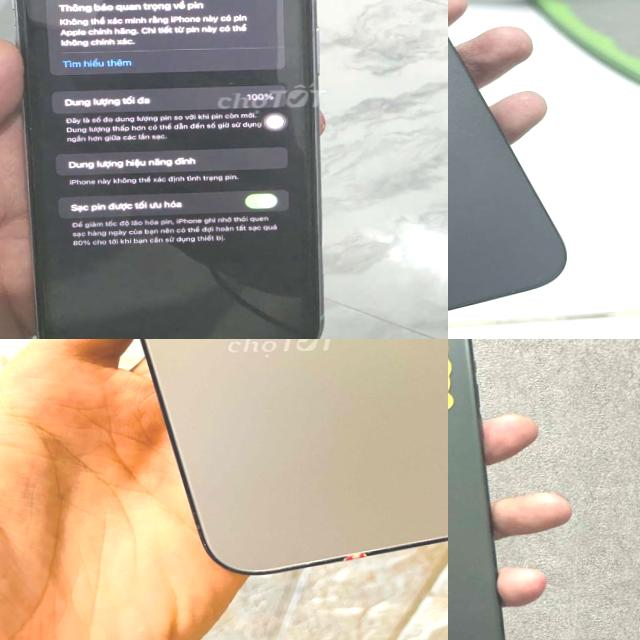gen_11: (448, 339, 515, 640)
gen_12_13: (63, 339, 448, 587)
gen_16: (448, 39, 565, 309)
gen_x_xs: (0, 0, 354, 339)
